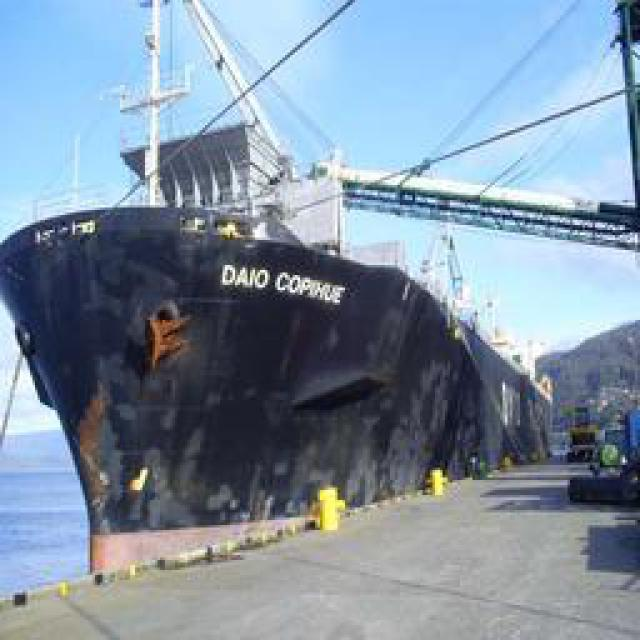Ship: (6, 4, 569, 582)
